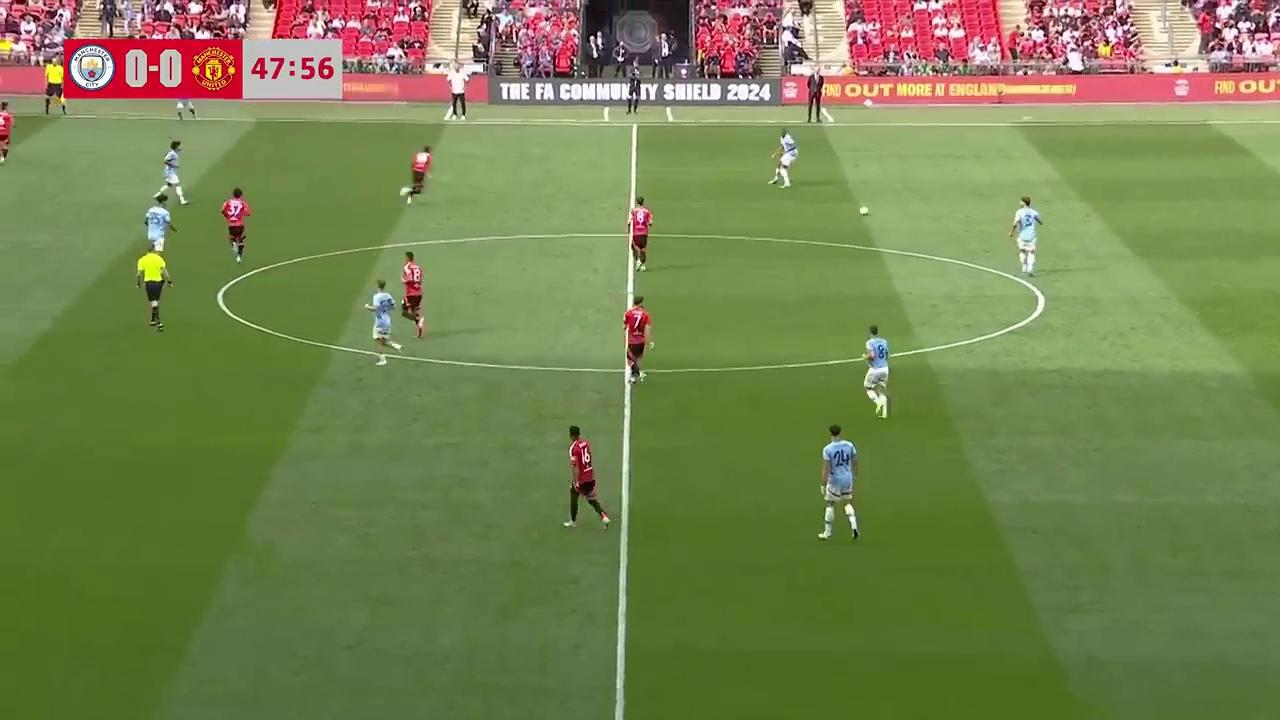ball: (857, 202, 869, 216)
player: (564, 425, 610, 531), (818, 425, 860, 541), (364, 278, 403, 365), (623, 295, 654, 383), (862, 324, 891, 418), (1007, 195, 1041, 274), (220, 187, 251, 262), (400, 250, 425, 339), (143, 193, 177, 258), (158, 139, 187, 206), (628, 196, 653, 271), (403, 144, 432, 204), (768, 129, 797, 187), (0, 103, 15, 163), (175, 89, 196, 122)
referee: (135, 245, 171, 331), (45, 62, 67, 117)
